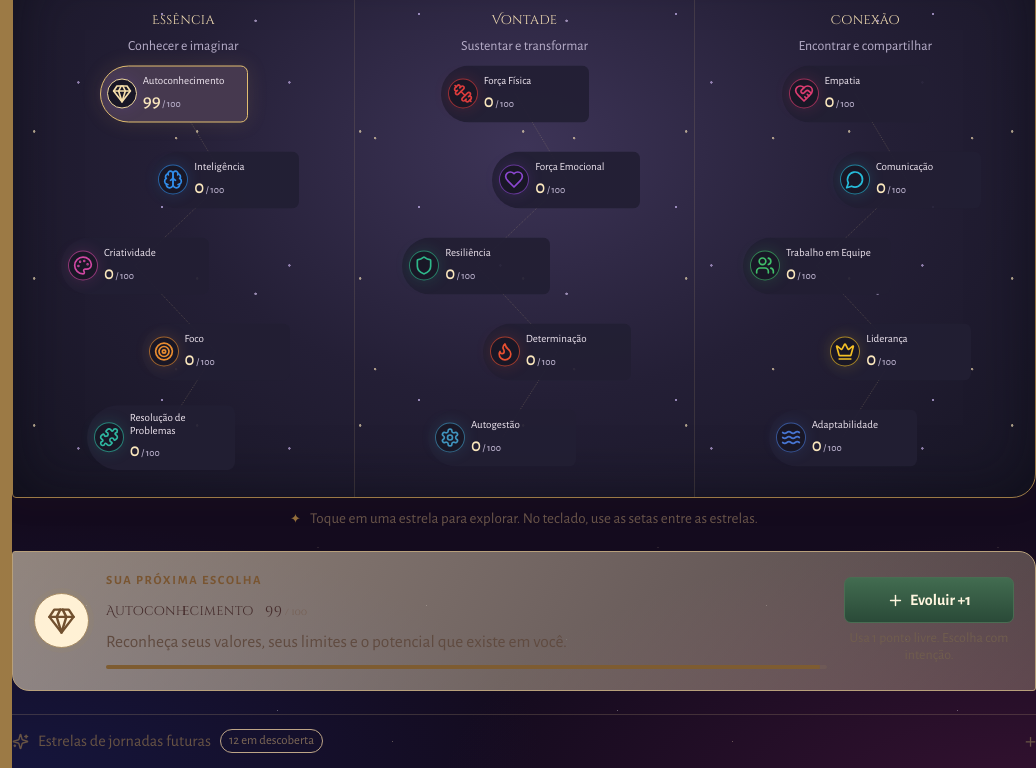
it: Acervo e ficha do herói › limita o último ponto ao máximo do atributo
(page scrolled)
Step 1. Click the button with aria-label "Aumentar Autoconhecimento em 1 ponto" → [929, 600], box [844, 577, 1014, 623]
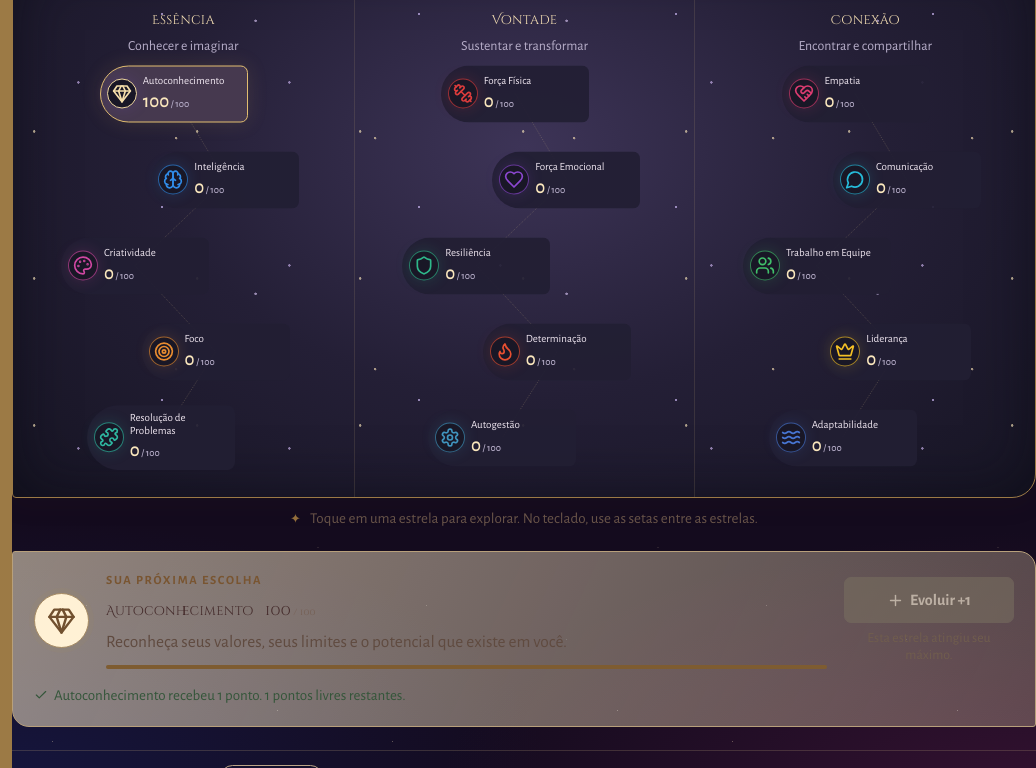
Now the button with aria-label "Aumentar Autoconhecimento em 1 ponto" is disabled, box [844, 577, 1014, 623]
